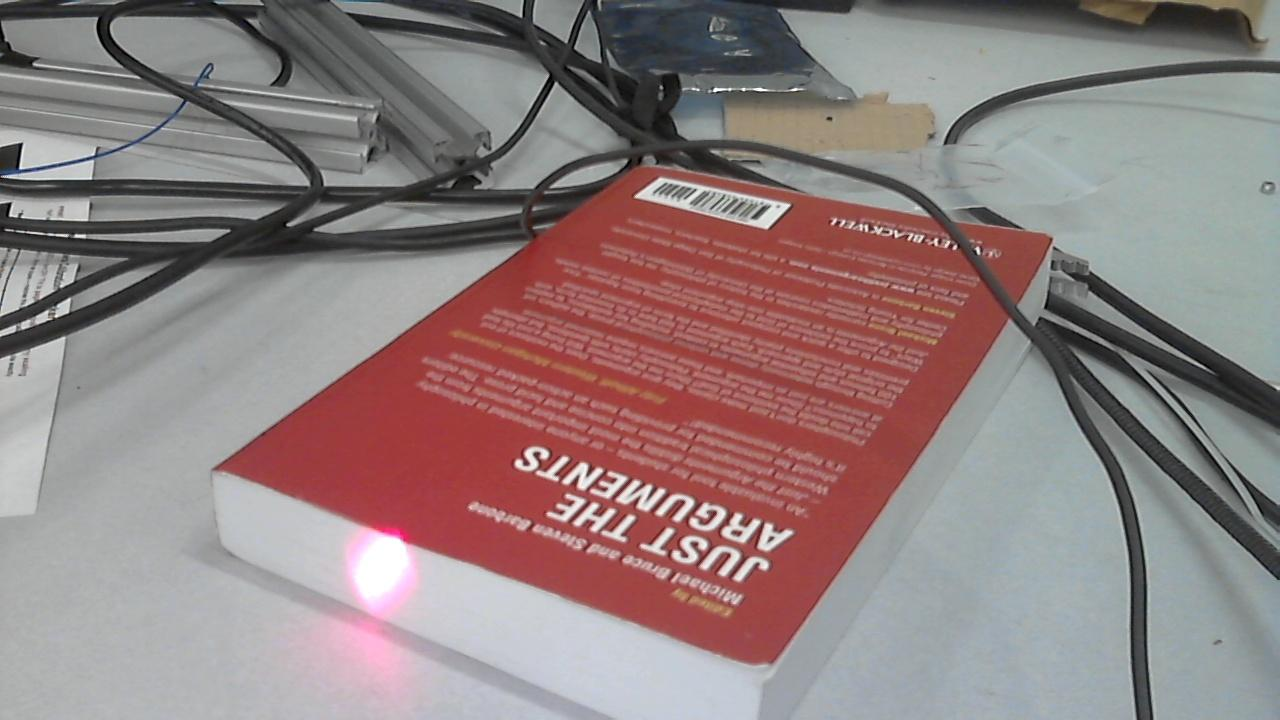Object book - Material paper - Color red - Pdfname QP9o9Hihi4G7: (327, 511, 437, 613)
